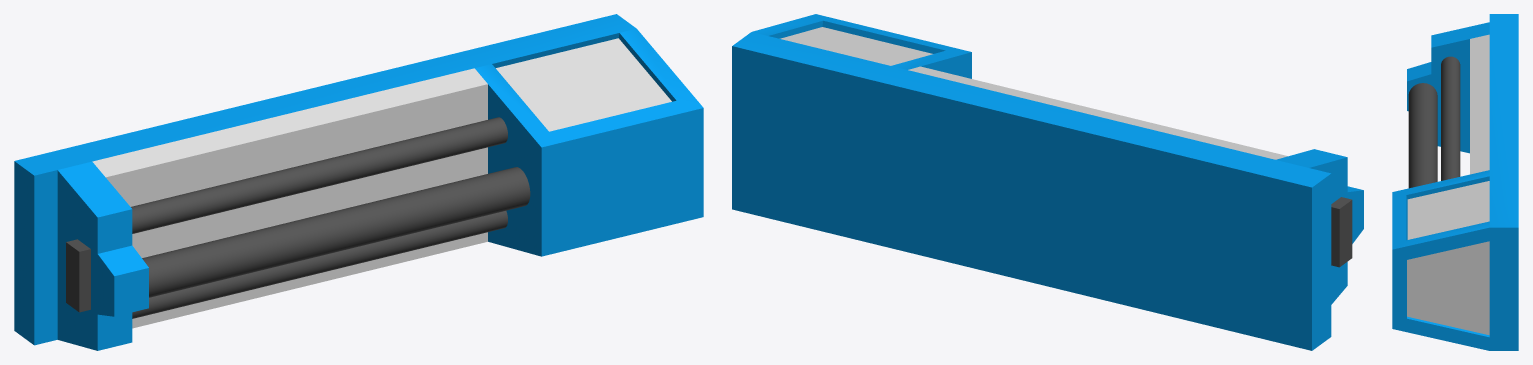
Rendered from cnc_rolling_machine_1_state_1.dae.
3 renders of one model, left to right at view 1: azimuth 30°, elevation 25°; view 2: azimuth 150°, elevation 25°; view 3: azimuth 270°, elevation 25°, orthographic. The views are drawn at different scales.
Visible parts, largest first — view 1: coords_ME_ID17_MA_material_6, coords_ME_ID37_MA_material_8, coords_ME_ID11_MA_material, coords_ME_ID25_MA_material, coords_ME_ID57_MA_material_8, coords_ME_ID3_MA_material, coords_ME_ID31_MA_material; view 2: coords_ME_ID17_MA_material_6, coords_ME_ID37_MA_material_8, coords_ME_ID57_MA_material_8, coords_ME_ID31_MA_material; view 3: coords_ME_ID17_MA_material_6, coords_ME_ID51_MA_material_8, coords_ME_ID57_MA_material_8, coords_ME_ID11_MA_material, coords_ME_ID37_MA_material_8, coords_ME_ID25_MA_material, coords_ME_ID45_MA_material_6.
Boxes of the visible parts, <box> form: coords_ME_ID17_MA_material_6: <box>14,14,703,350</box>; coords_ME_ID37_MA_material_8: <box>92,68,487,328</box>; coords_ME_ID11_MA_material: <box>142,167,530,297</box>; coords_ME_ID25_MA_material: <box>131,117,507,233</box>; coords_ME_ID57_MA_material_8: <box>496,38,671,131</box>; coords_ME_ID3_MA_material: <box>132,211,507,318</box>; coords_ME_ID31_MA_material: <box>66,239,90,312</box>; coords_ME_ID17_MA_material_6: <box>732,14,1363,350</box>; coords_ME_ID37_MA_material_8: <box>908,66,1287,159</box>; coords_ME_ID57_MA_material_8: <box>780,27,932,65</box>; coords_ME_ID31_MA_material: <box>1331,197,1352,267</box>; coords_ME_ID17_MA_material_6: <box>1392,14,1518,350</box>; coords_ME_ID51_MA_material_8: <box>1407,241,1489,335</box>; coords_ME_ID57_MA_material_8: <box>1407,181,1489,239</box>; coords_ME_ID11_MA_material: <box>1408,83,1437,188</box>; coords_ME_ID37_MA_material_8: <box>1470,34,1489,174</box>; coords_ME_ID25_MA_material: <box>1441,56,1460,180</box>; coords_ME_ID45_MA_material_6: <box>1407,316,1489,337</box>.
Bounding box in the file's own units: 65.51 × 17.64 × 16.38.
